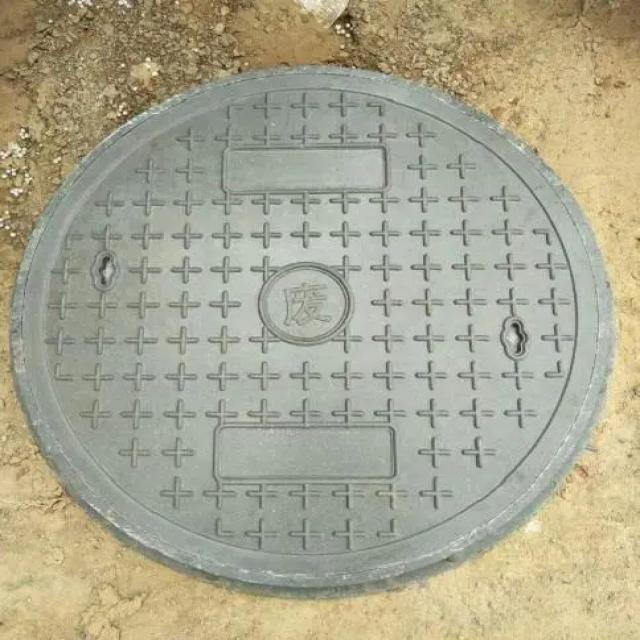manhole: (11, 68, 614, 591)
